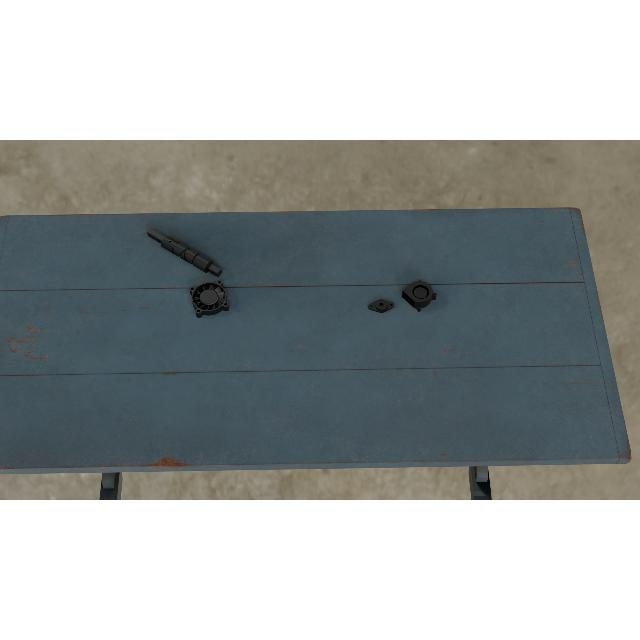Pieza1: (144, 224, 224, 282)
Pieza2: (367, 298, 395, 314)
Pieza3: (402, 277, 438, 313)
Pieza4: (188, 279, 230, 319)
